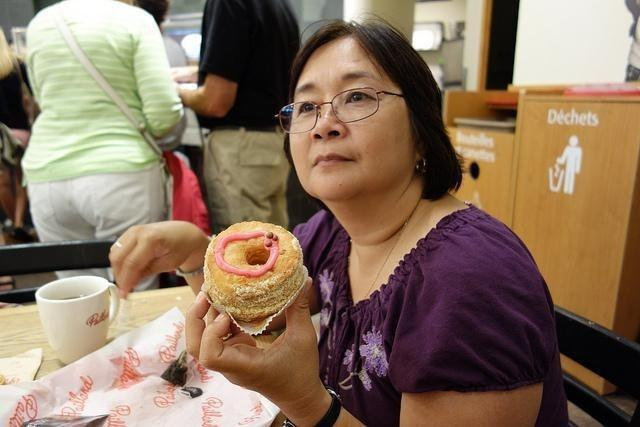cup-handle: (33, 274, 122, 366)
